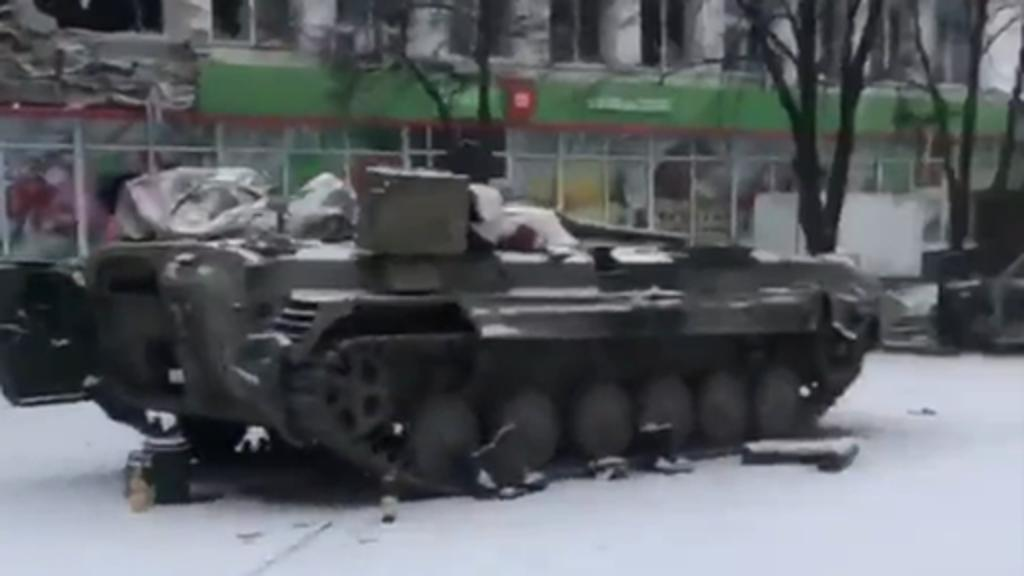APC-IFV: (0, 180, 868, 472)
